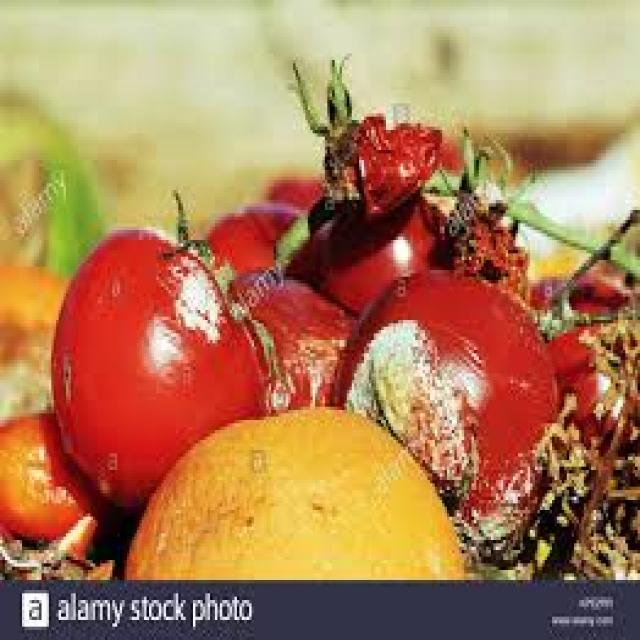food_waste: (0, 60, 638, 577)
